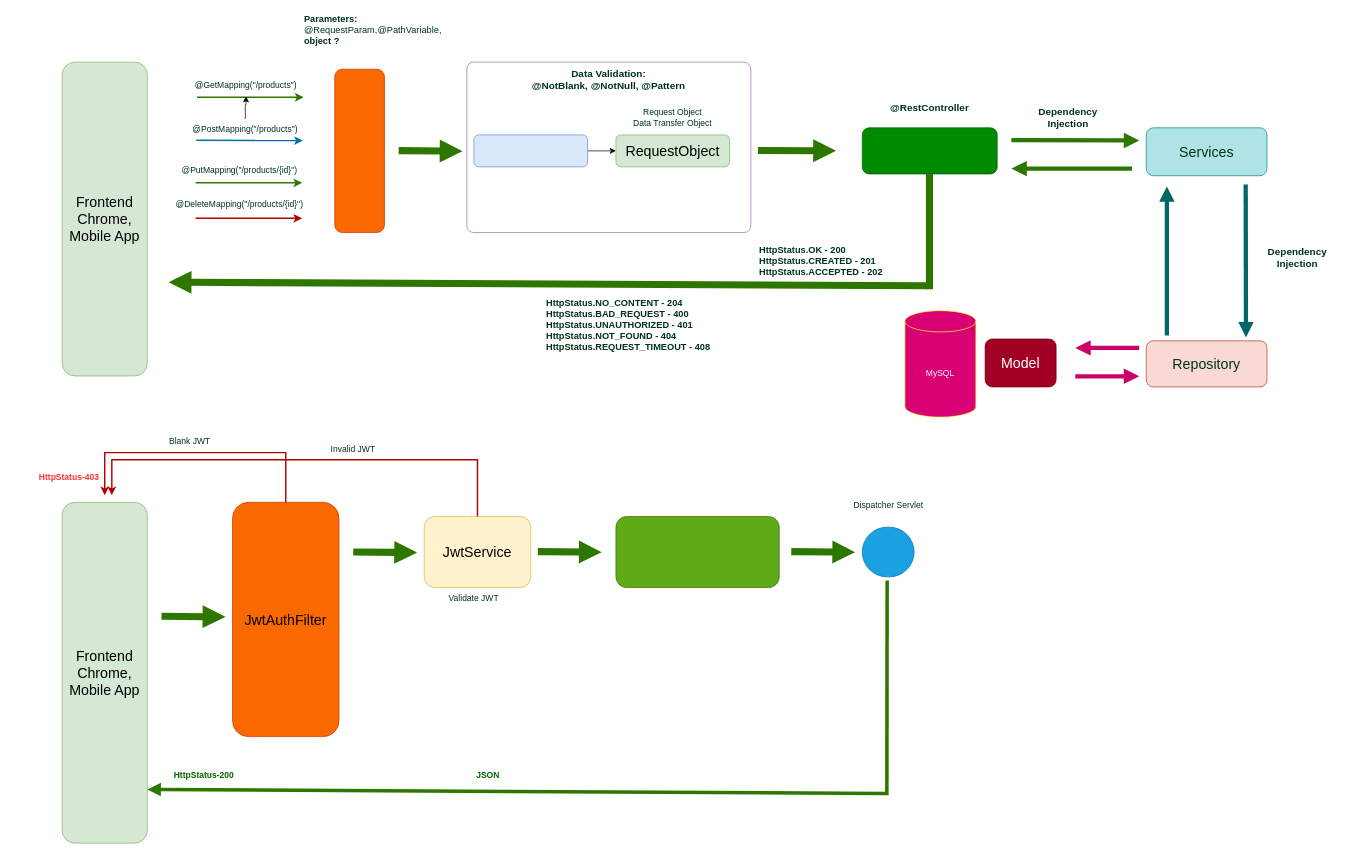
The diagram is 1345 pixels wide and 856 high, and some of its shapes have lost their labels. Each missing label, with the centre of its shape:
"Controller" goes at point 929,150.
"Filter" goes at point 359,151.
"JSON objects" goes at point 530,150.
"Update SecurityContextHolder" goes at point 697,552.
